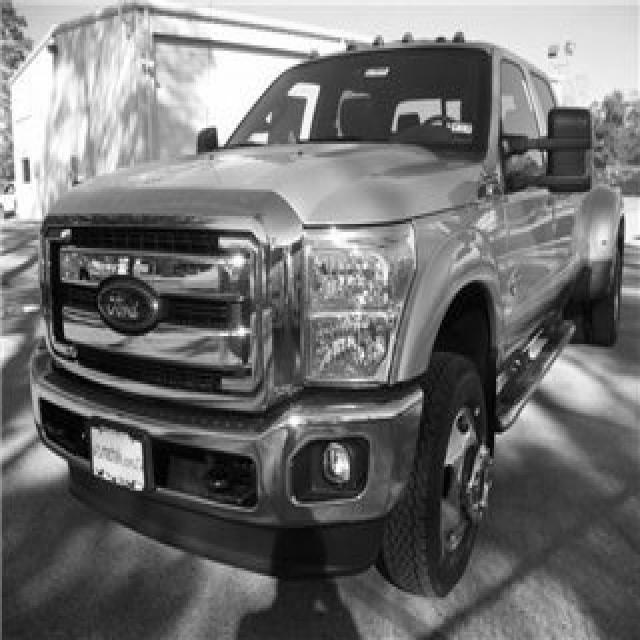car: (28, 27, 624, 597)
